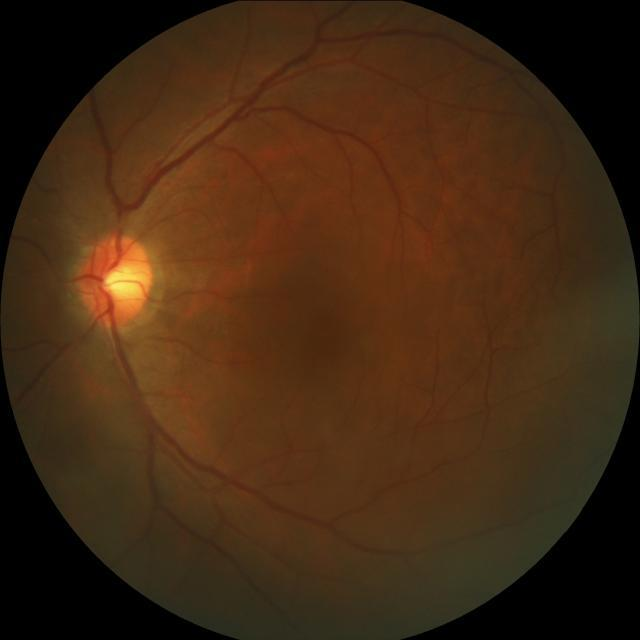OC: (100, 256, 139, 302)
OD: (77, 232, 152, 326)
